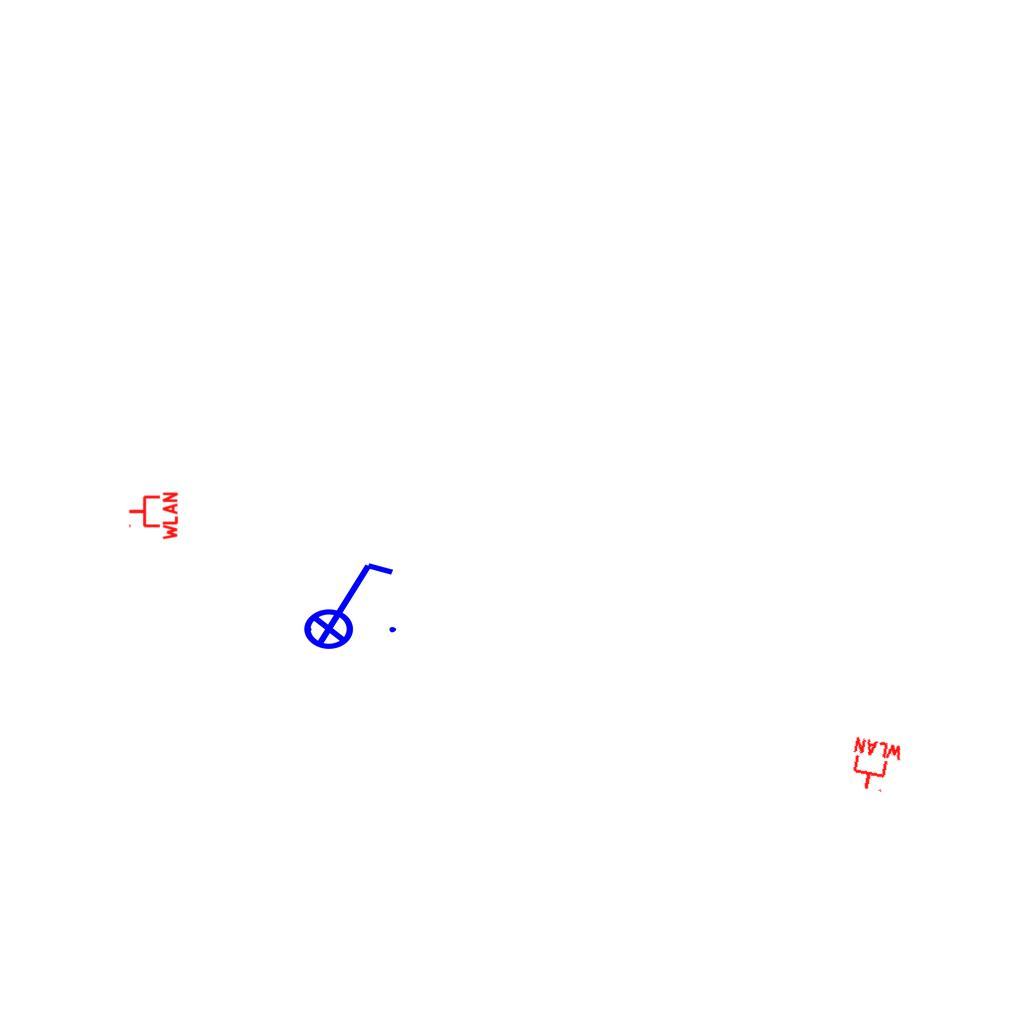Ausschalter_beleuchtet: (290, 555, 402, 651)
WLAN: (844, 735, 906, 797), (127, 490, 179, 542)
